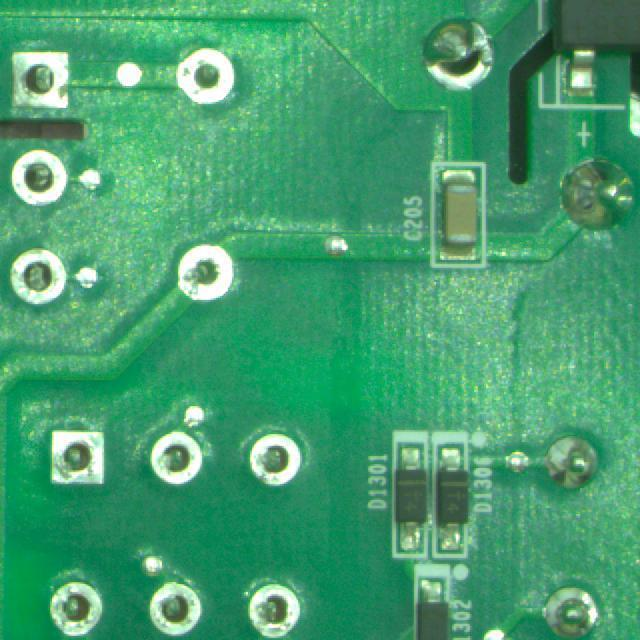Insufficient solder: (415, 9, 500, 99), (236, 428, 309, 494), (44, 424, 111, 495), (170, 245, 243, 309), (169, 45, 236, 108), (142, 425, 207, 489), (7, 50, 73, 113), (47, 576, 113, 637), (7, 247, 72, 308), (245, 578, 306, 640), (7, 150, 71, 207), (146, 579, 209, 634)
